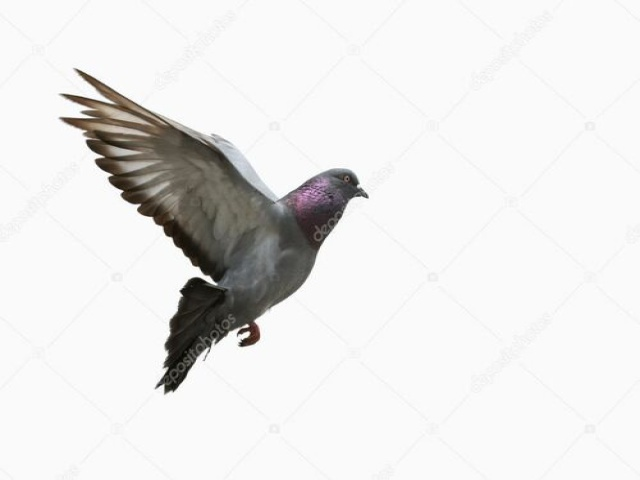Pigeon: (53, 64, 379, 399)
